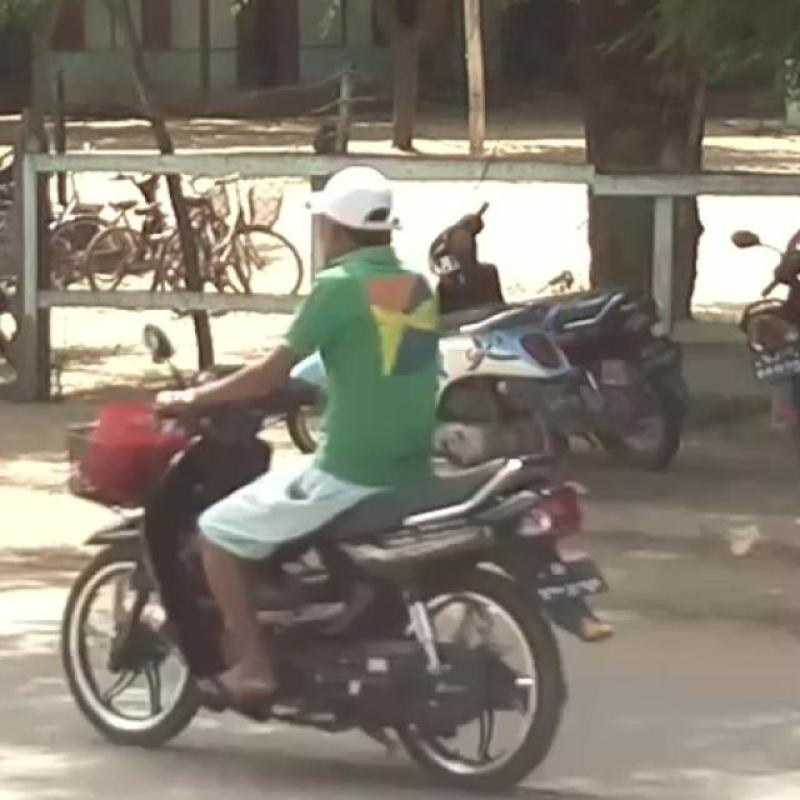nohelmet: (297, 147, 471, 294)
